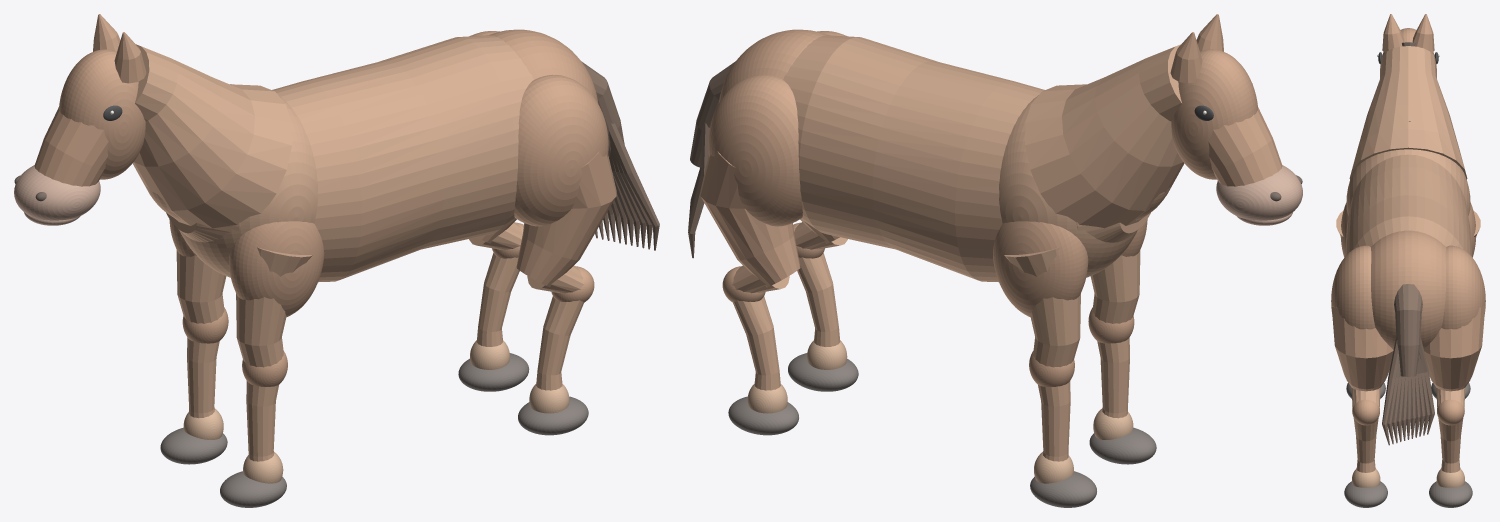
The model's file is kun.glb.
3 views of the same model, side by side, from view 1: azimuth 30°, elevation 25°; view 2: azimuth 150°, elevation 25°; view 3: azimuth 270°, elevation 25° (orthographic). The views are drawn at different scales.
Parts seen in each view (by area): view 1: Trup koně, Krk, Kyčel Zadní pravá, Hlava, Plece Přední pravá, Stehno Zadní pravá, Hrudník, Nosní hřbet, Horní část Přední pravá, Zadní bérec Zadní pravá, Zadní bérec Zadní levá, Čenich (+17 smaller); view 2: Trup koně, Krk, Kyčel Zadní levá, Hlava, Plece Přední levá, Stehno Zadní levá, Hrudník, Nosní hřbet, Horní část Přední levá, Zadní bérec Zadní levá, Zadní bérec Zadní pravá, Čenich (+18 smaller); view 3: Trup koně, Krk, Záď, Stehno Zadní pravá, Stehno Zadní levá, Kyčel Zadní pravá, Kyčel Zadní levá, Kořen ocasu, Hrudník, Zadní bérec Zadní levá, Zadní bérec Zadní pravá, Kopyto Zadní levá (+21 smaller).
Boxes of the visible parts, x1,y1,x2,y2 form: Trup koně: (166, 35, 533, 282); Krk: (132, 44, 291, 228); Kyčel Zadní pravá: (514, 74, 608, 226); Hlava: (59, 49, 145, 179); Plece Přední pravá: (229, 221, 324, 317); Stehno Zadní pravá: (516, 151, 616, 286); Hrudník: (179, 95, 317, 277); Nosní hřbet: (34, 107, 108, 186); Horní část Přední pravá: (236, 247, 312, 367); Zadní bérec Zadní pravá: (527, 265, 584, 390); Zadní bérec Zadní levá: (469, 222, 522, 346); Čenich: (14, 165, 100, 220); Trup koně: (783, 35, 1150, 282); Krk: (1025, 44, 1184, 228); Kyčel Zadní levá: (708, 74, 802, 226); Hlava: (1171, 49, 1257, 179); Plece Přední levá: (993, 221, 1088, 317); Stehno Zadní levá: (700, 151, 800, 287); Hrudník: (999, 95, 1137, 277); Nosní hřbet: (1208, 107, 1282, 186); Horní část Přední levá: (1004, 247, 1080, 367); Zadní bérec Zadní levá: (732, 265, 789, 390); Zadní bérec Zadní pravá: (794, 222, 847, 346); Čenich: (1216, 165, 1302, 220); Trup koně: (1345, 154, 1471, 256); Krk: (1349, 46, 1467, 179); Záď: (1371, 230, 1445, 349); Stehno Zadní pravá: (1331, 306, 1393, 391); Stehno Zadní levá: (1424, 306, 1485, 391); Kyčel Zadní pravá: (1331, 245, 1375, 329); Kyčel Zadní levá: (1441, 245, 1485, 329); Kořen ocasu: (1394, 284, 1422, 376); Hrudník: (1346, 149, 1470, 215); Zadní bérec Zadní levá: (1436, 388, 1465, 472); Zadní bérec Zadní pravá: (1351, 387, 1380, 472); Kopyto Zadní levá: (1429, 481, 1472, 507).
Size of the model in its own units: 3.23 by 2.4 by 0.972.
